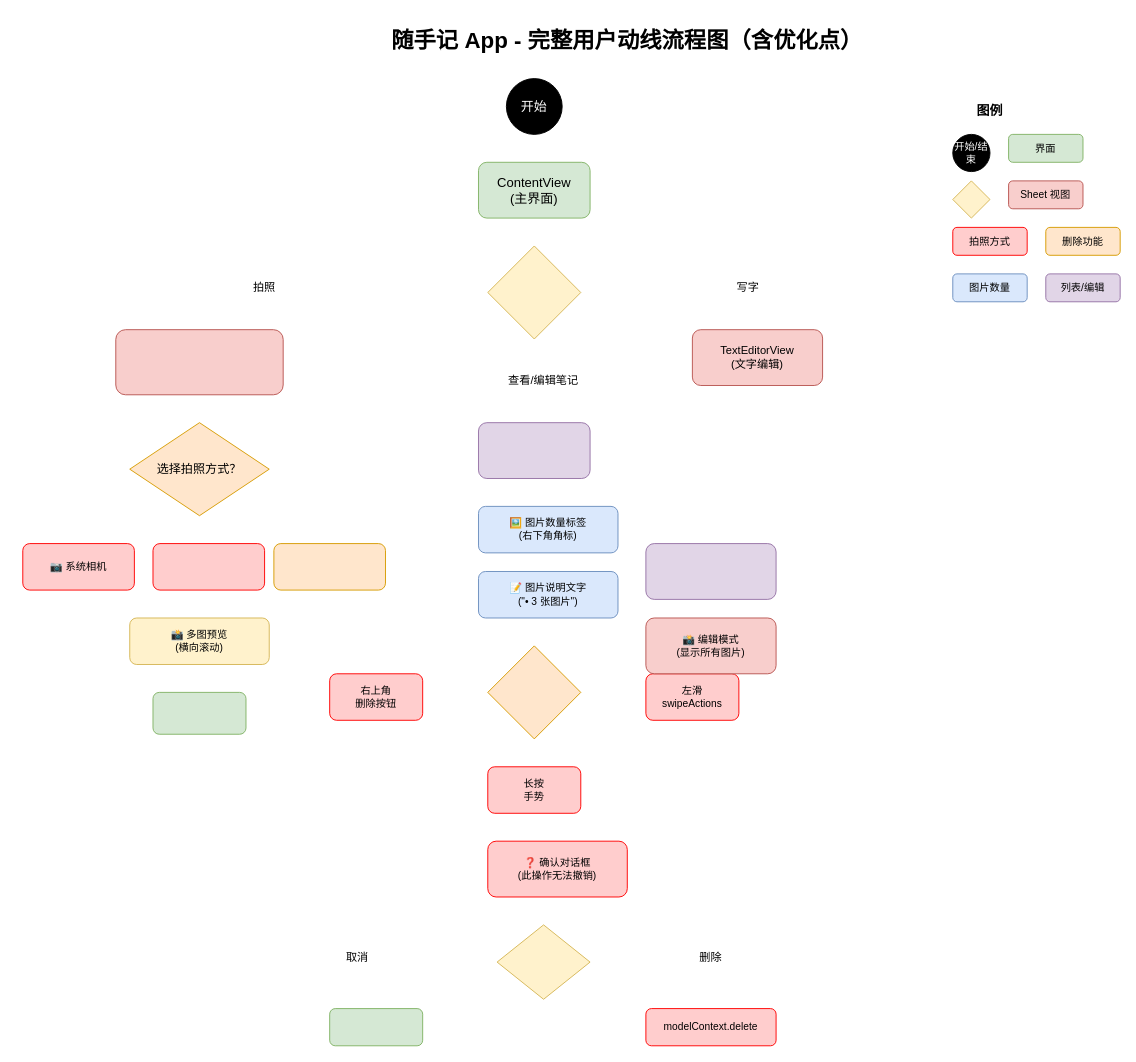
This 1136x1062 diagram has some shape labels left out. Each missing label, with the centre of its shape:
CameraView (拍照/选择界面): point (199, 362)
✏️ 编辑笔记 (加载所有图片): point (710, 571)
决策: point (971, 199)
删除方式？: point (534, 692)
用户操作？: point (534, 292)
确认？: point (543, 961)
笔记列表 (NoteRow): point (534, 450)
返回列表: point (376, 1027)
💾 保存: point (199, 712)
🔄 更换图片 (保留已选): point (329, 566)
🖼️ 相册选择: point (208, 566)
